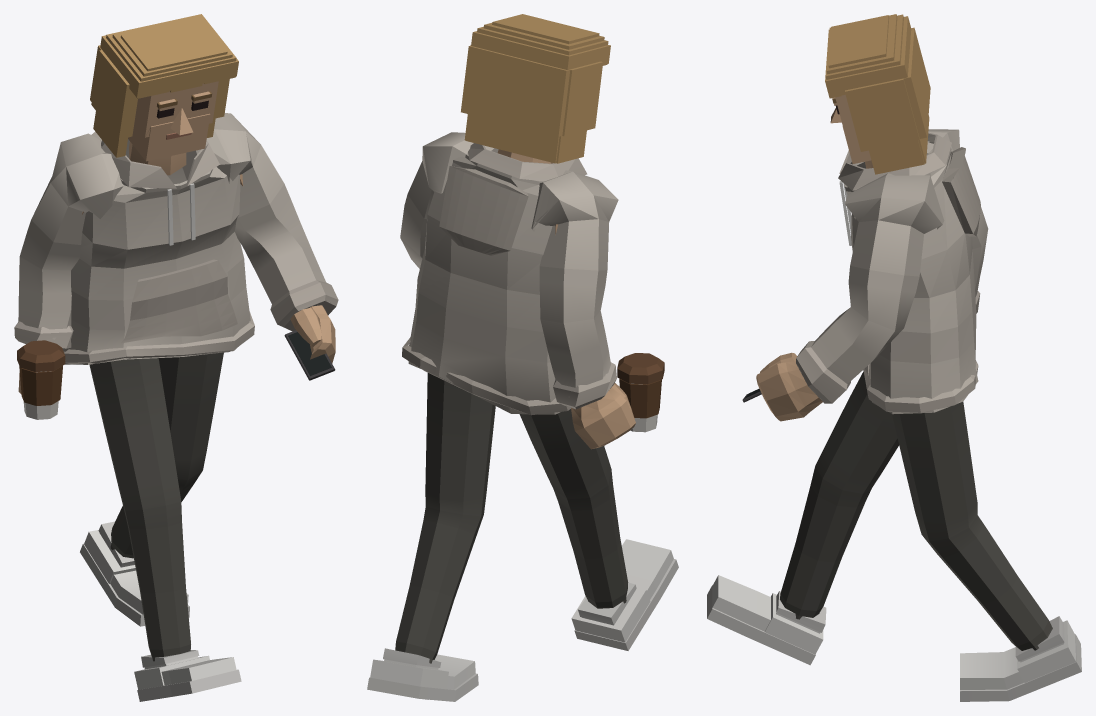
File: student-in-a-hoodie-7c8223__walk4.glb
3 views of the same model, side by side, from view 1: azimuth 30°, elevation 25°; view 2: azimuth 150°, elevation 25°; view 3: azimuth 270°, elevation 25° (orthographic).
Parts seen in each view (by area): view 1: student-in-a-hoodie-7c8223__walk4; view 2: student-in-a-hoodie-7c8223__walk4; view 3: student-in-a-hoodie-7c8223__walk4.
Boxes of the visible parts, left/top/right/bottom form: student-in-a-hoodie-7c8223__walk4: left=14, top=14, right=338, bottom=701; student-in-a-hoodie-7c8223__walk4: left=367, top=14, right=678, bottom=701; student-in-a-hoodie-7c8223__walk4: left=707, top=14, right=1081, bottom=701.
Size of the model in its own units: 0.7798 by 1.71 by 0.9128.
